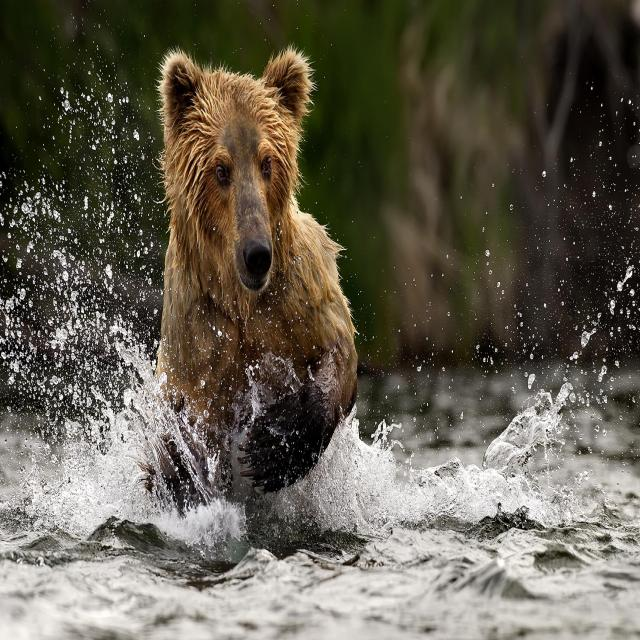Bear: (156, 47, 359, 504)
